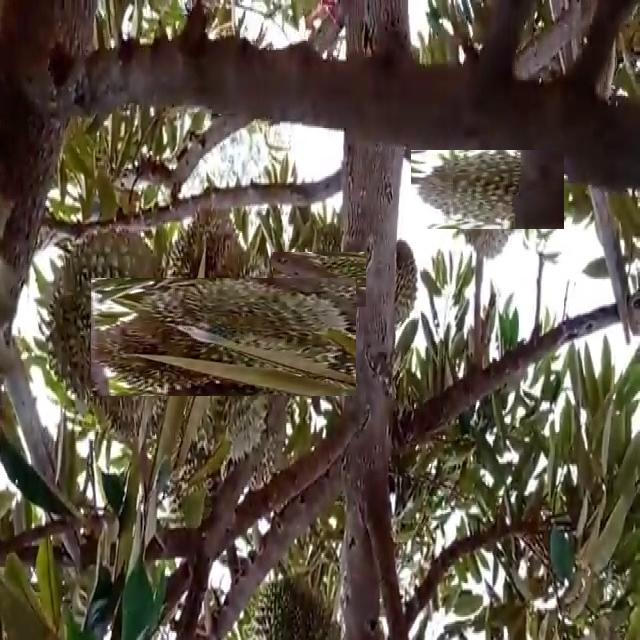durian: (128, 241, 320, 433), (38, 229, 180, 453), (430, 131, 546, 248), (289, 235, 377, 324), (250, 566, 345, 638), (366, 234, 421, 340)
